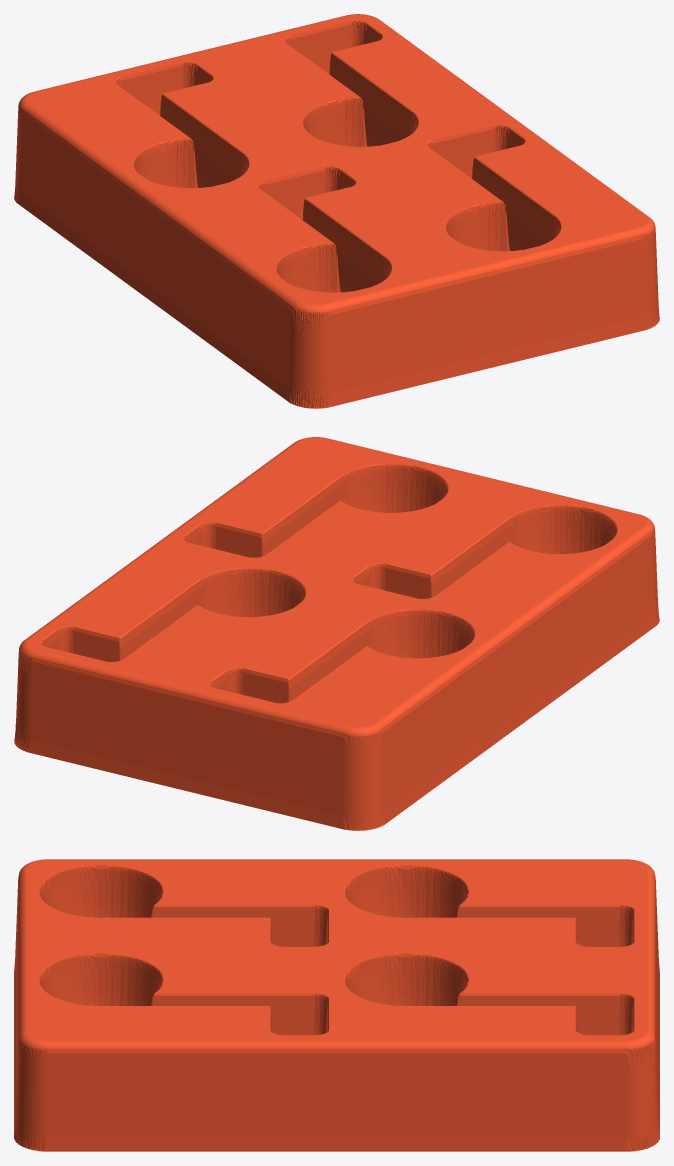
The model's file is mold.glb.
3 views of the same model, one above another, from view 1: azimuth 30°, elevation 25°; view 2: azimuth 150°, elevation 25°; view 3: azimuth 270°, elevation 25° (orthographic). The views are drawn at different scales.
Visible parts, largest first — view 1: geometry_0; view 2: geometry_0; view 3: geometry_0.
Boxes of the visible parts, x1=… form: geometry_0: x1=14, y1=14, x2=659, y2=408; geometry_0: x1=14, y1=437, x2=659, y2=830; geometry_0: x1=14, y1=859, x2=659, y2=1151.
Size of the model in its own units: 0.1209 by 0.031 by 0.1721.
